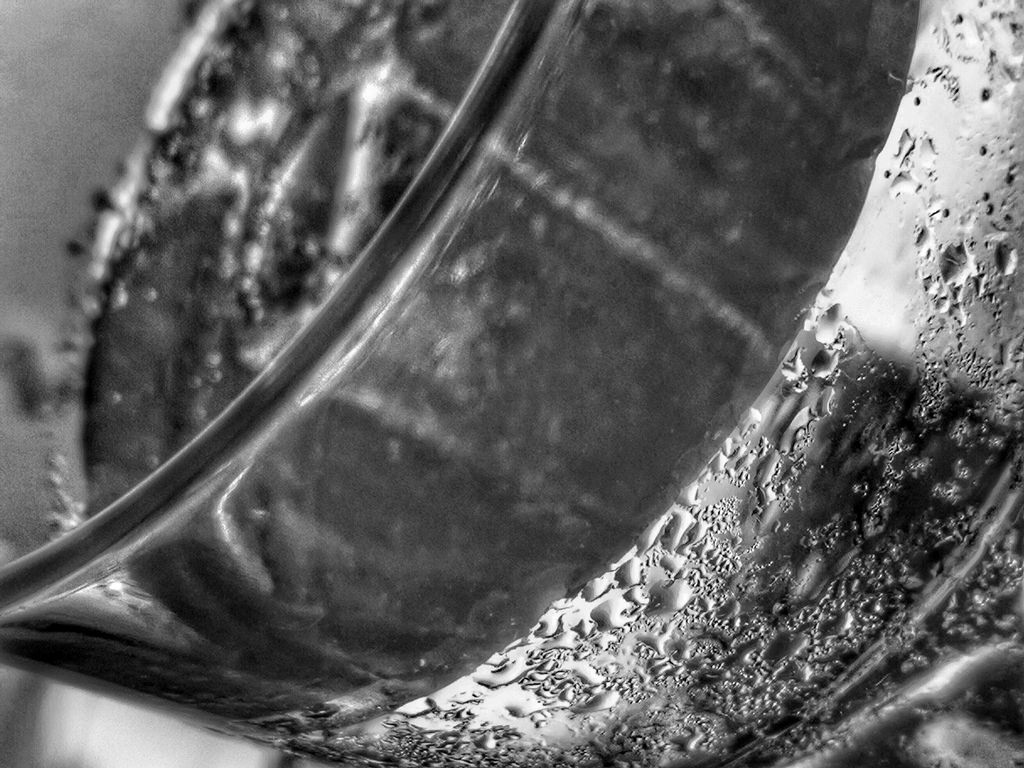glass of water: (36, 14, 1004, 751)
